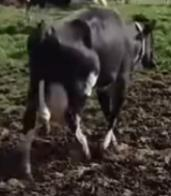cow: (23, 6, 154, 182)
